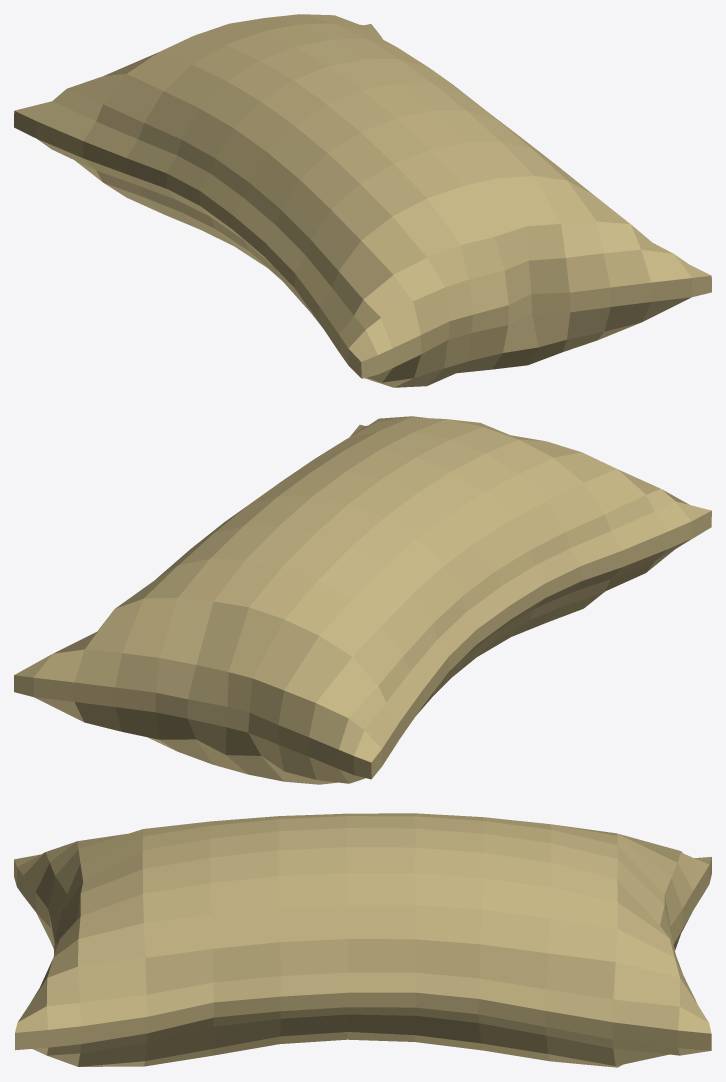
File: Sand Bag.fbx
The picture shows the model from 3 angles, top to bottom: view 1: azimuth 30°, elevation 25°; view 2: azimuth 150°, elevation 25°; view 3: azimuth 270°, elevation 25°; orthographic projection.
Visible parts, largest first — view 1: Plane.001; view 2: Plane.001; view 3: Plane.001.
Boxes of the visible parts, x1=… form: Plane.001: x1=14, y1=14, x2=711, y2=387; Plane.001: x1=14, y1=416, x2=711, y2=784; Plane.001: x1=14, y1=813, x2=711, y2=1067.
Size of the model in its own units: 103 by 55.64 by 172.
